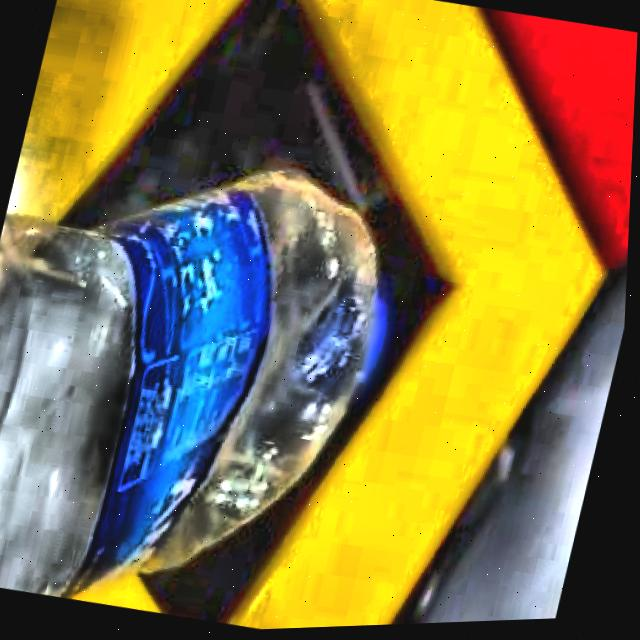plastic: (0, 171, 390, 599)
